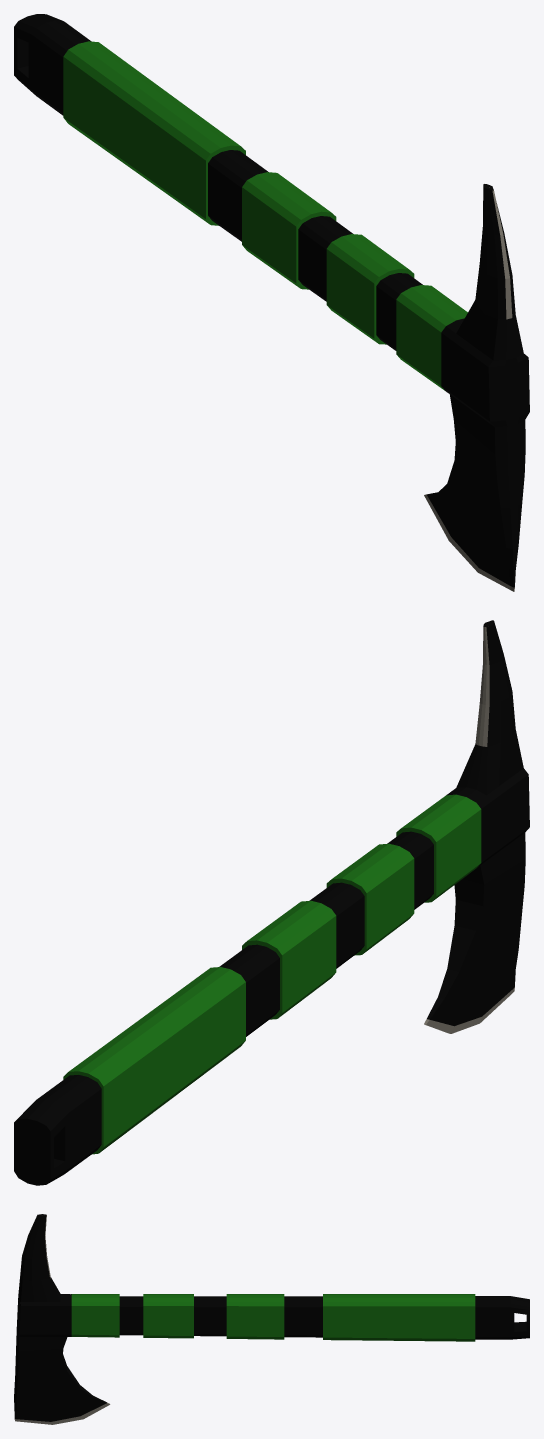
Rendered from PickAxe.fbx.
The picture shows the model from 3 angles, top to bottom: view 1: azimuth 30°, elevation 25°; view 2: azimuth 150°, elevation 25°; view 3: azimuth 270°, elevation 25°; orthographic projection. The views are drawn at different scales.
Parts seen in each view (by area): view 1: PickAxe; view 2: PickAxe; view 3: PickAxe.
Part boxes in pixels (bbox=[...]): PickAxe: bbox=[14, 14, 529, 591]; PickAxe: bbox=[14, 620, 529, 1185]; PickAxe: bbox=[14, 1214, 529, 1424].
Size of the model in its own units: 0.0289 by 0.2704 by 0.603.
